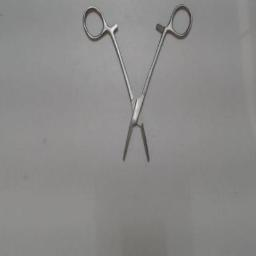Mayo Needle Holder: (80, 1, 196, 169)
